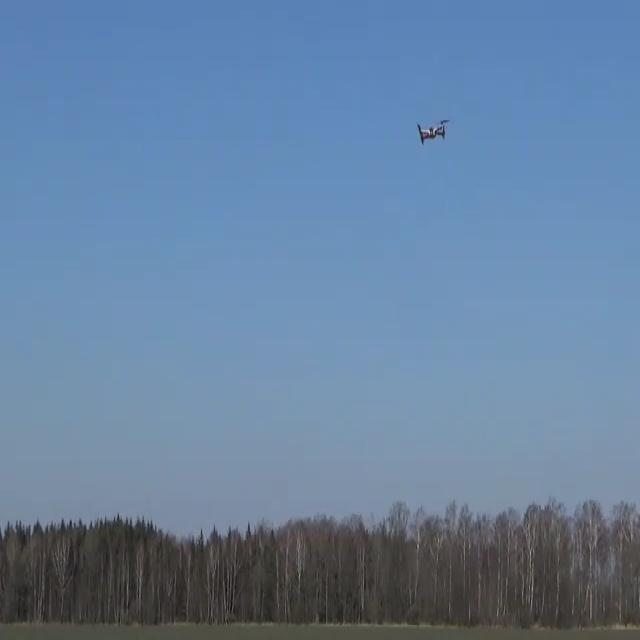Drone: (400, 101, 460, 162)
